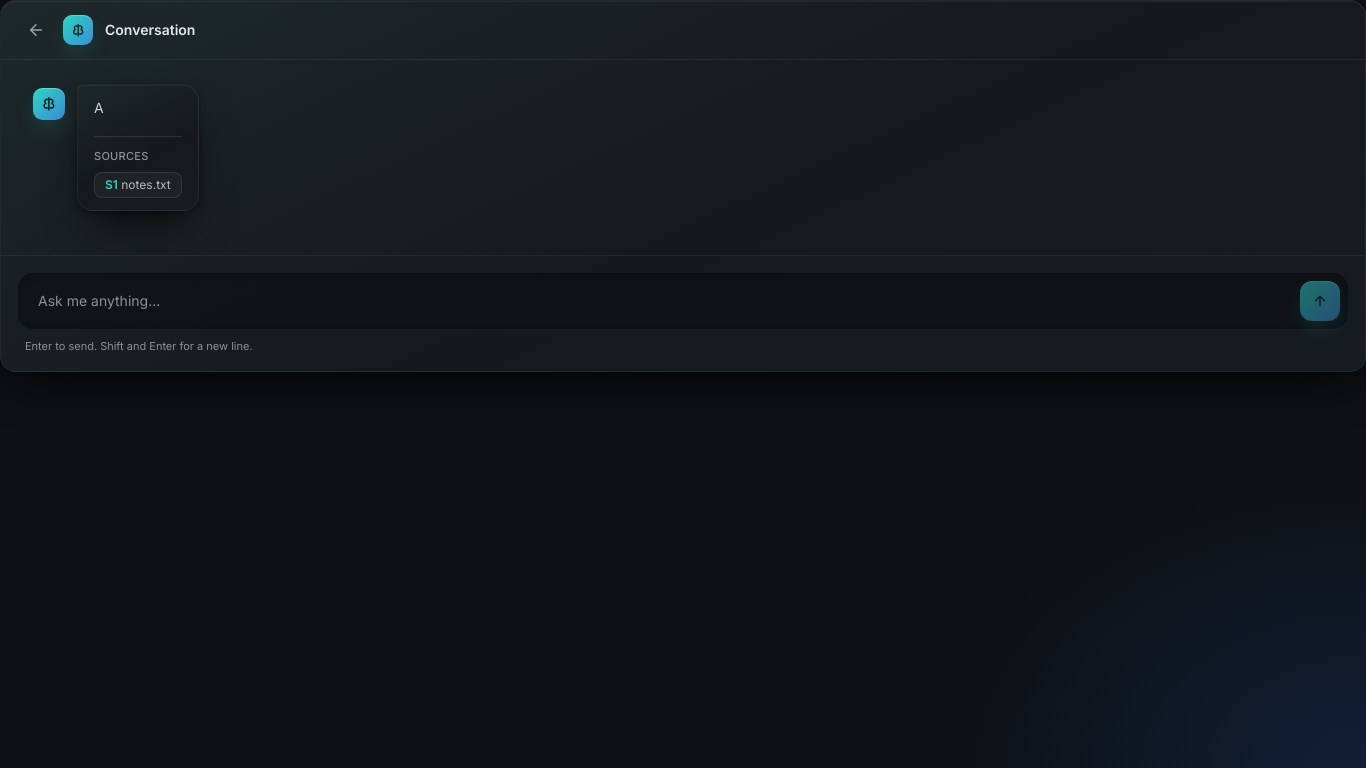
Scenario: chat progress, sources and shortcuts › C03 a source without a page says it is the whole file
This screenshot has width=1366, height=768.
Click the button "S1 notes.txt" at (138, 186), box [94,172,182,198]
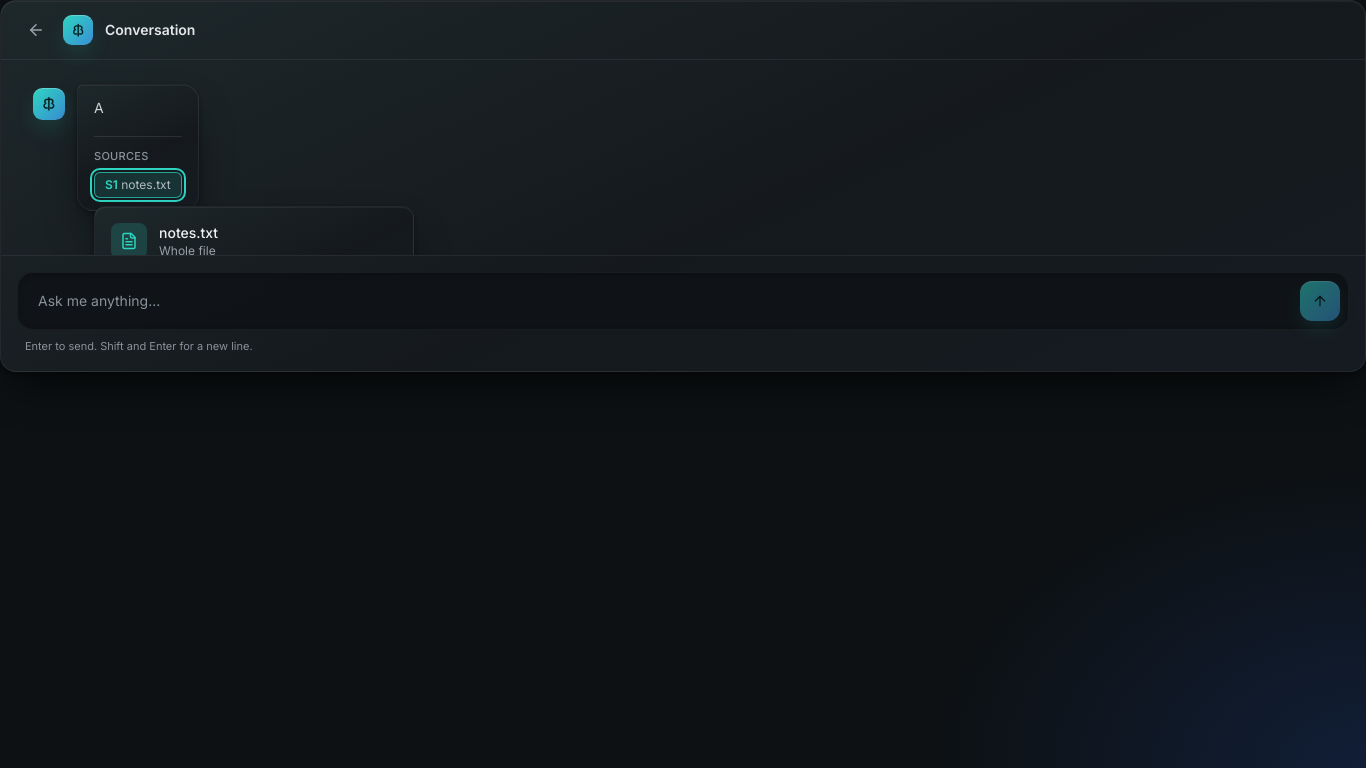
Now the dialog named "Source S1" shows "Whole file", box [159,244,216,256]
